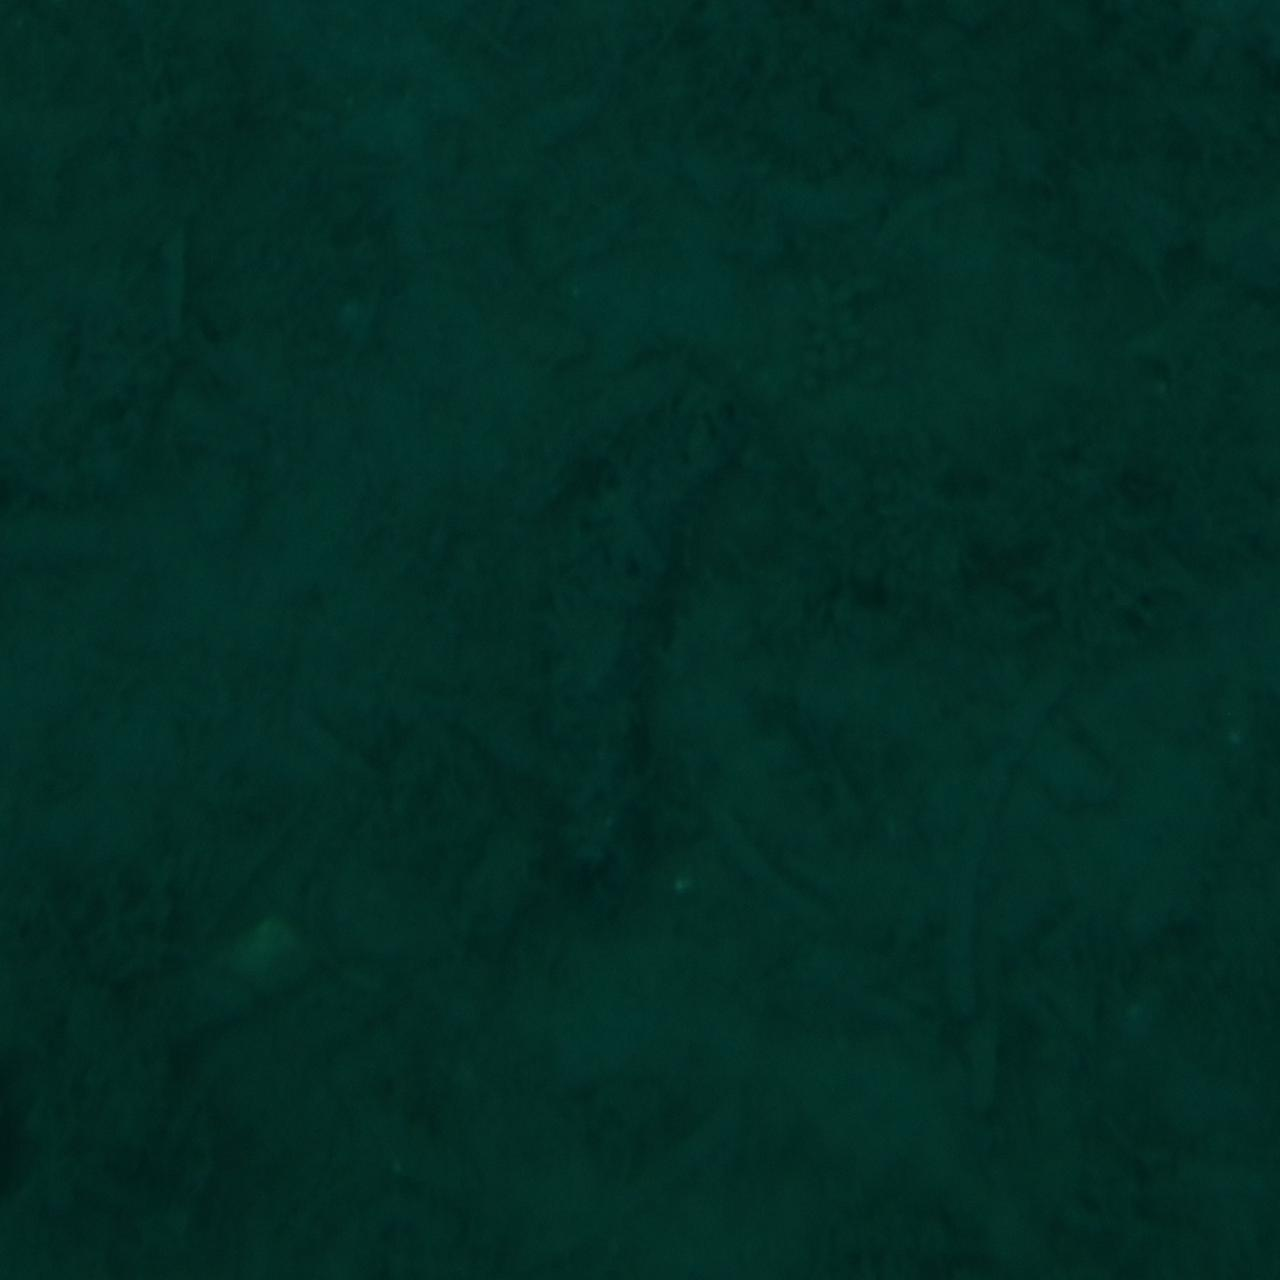Holothuria tubulosa: (512, 372, 768, 908)
